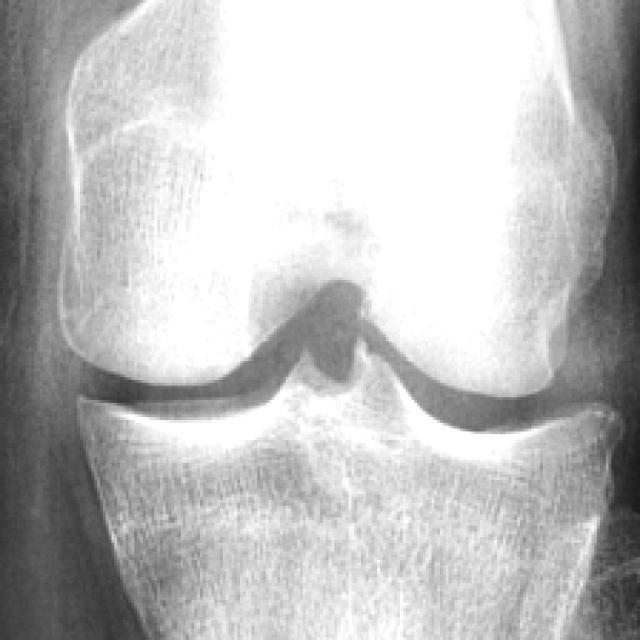femur: (63, 1, 615, 398)
tibia: (80, 343, 611, 634)
